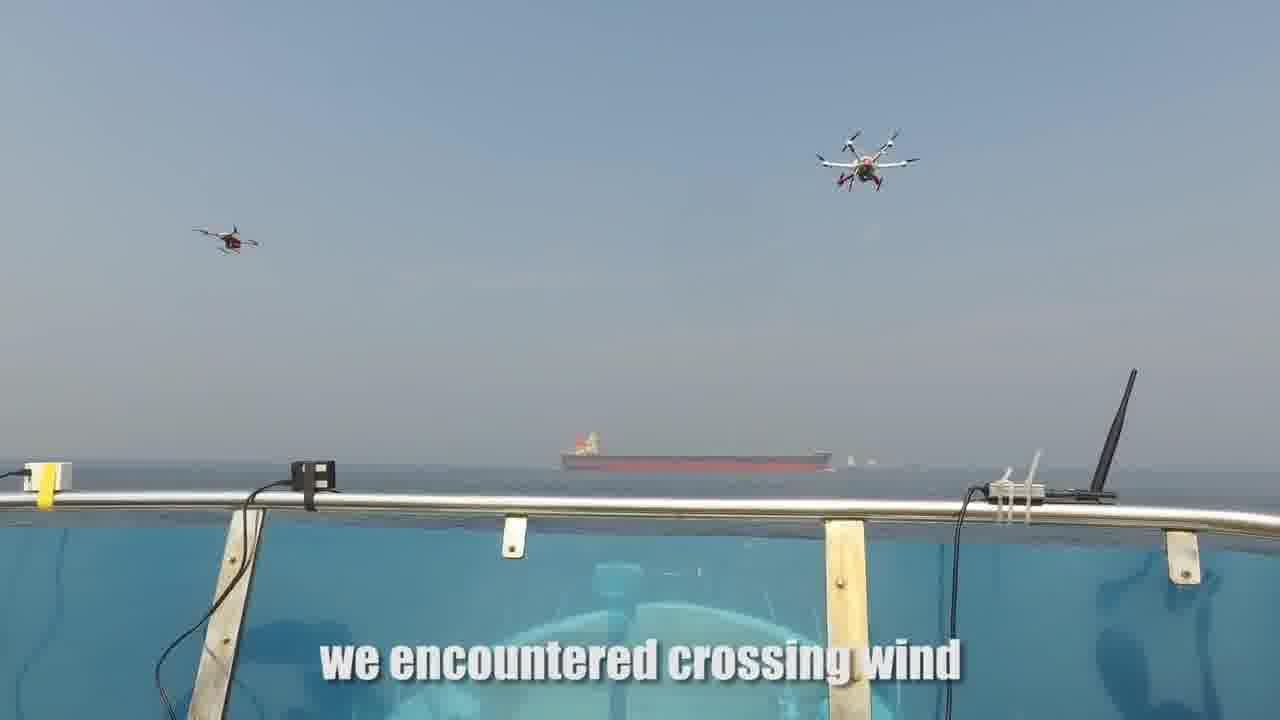drone: (820, 122, 911, 194), (197, 217, 259, 258)
